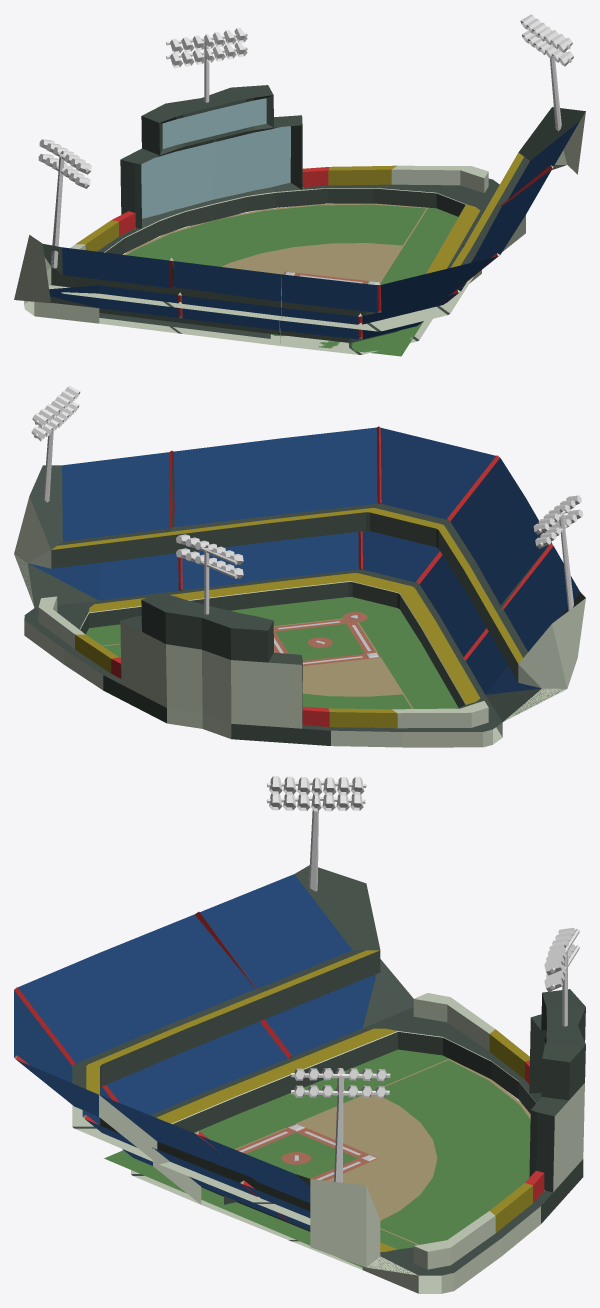
Rendered from Baseball_field.fbx.
The picture shows the model from 3 angles, top to bottom: view 1: azimuth 30°, elevation 25°; view 2: azimuth 150°, elevation 25°; view 3: azimuth 270°, elevation 25°; orthographic projection. The views are drawn at different scales.
Visible parts, largest first — view 1: Cube.001, Circle, Cylinder.012, Cylinder.008, Cylinder.005; view 2: Cube.001, Circle, Cylinder.012, Cylinder.008, Cylinder.005; view 3: Cube.001, Circle, Cylinder.012, Cylinder.008.
Part boxes in pixels (x1,y1,x2,y2): Cube.001: [14, 85, 585, 354]; Circle: [123, 203, 458, 356]; Cylinder.012: [38, 14, 573, 268]; Cylinder.008: [170, 27, 247, 54]; Cylinder.005: [170, 42, 247, 68]; Cube.001: [14, 426, 585, 747]; Circle: [86, 597, 458, 709]; Cylinder.012: [31, 385, 583, 610]; Cylinder.008: [176, 534, 243, 564]; Cylinder.005: [176, 548, 243, 578]; Cube.001: [14, 865, 585, 1293]; Circle: [104, 1049, 530, 1267]; Cylinder.012: [266, 776, 390, 1182]; Cylinder.008: [544, 927, 575, 975].
Bounding box in the file's own units: 5393 × 1879 × 4073.
